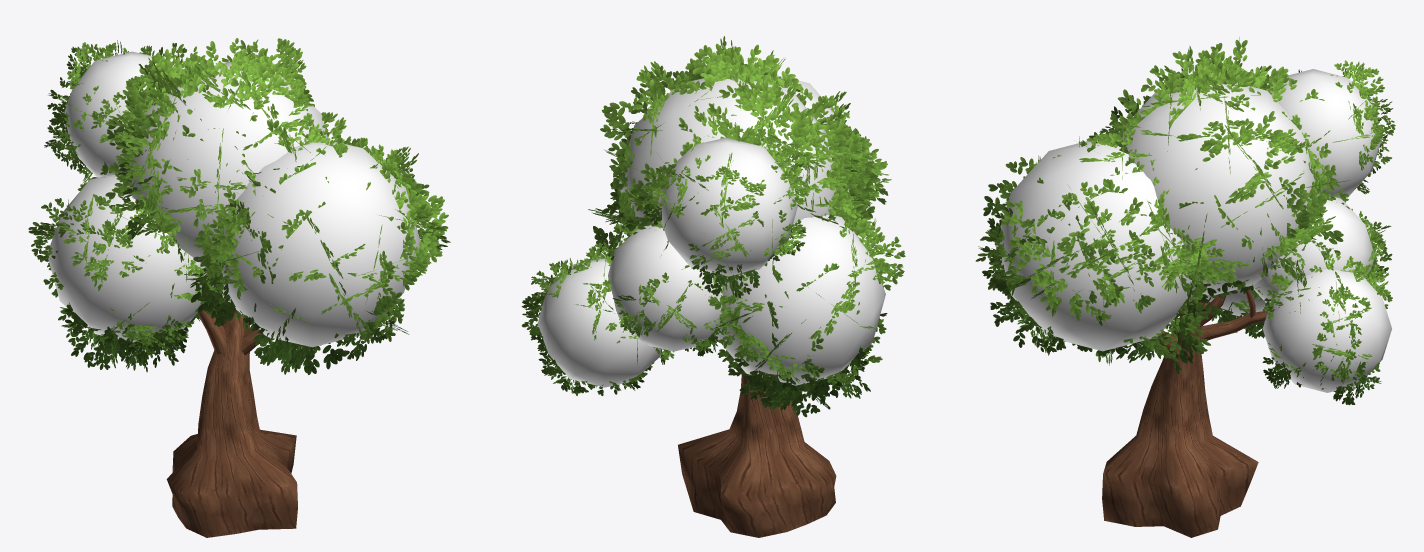
The model's file is cardtree_71924_s53423.gltf.
3 renders of one model, left to right at view 1: azimuth 30°, elevation 25°; view 2: azimuth 150°, elevation 25°; view 3: azimuth 270°, elevation 25°, orthographic. The views are drawn at different scales.
Parts seen in each view (by area): view 1: cardtree_71924_s53423_shadow_LOD0, cardtree_71924_s53423_leaves_LOD0, cardtree_71924_s53423_trunk_LOD0; view 2: cardtree_71924_s53423_shadow_LOD0, cardtree_71924_s53423_leaves_LOD0, cardtree_71924_s53423_trunk_LOD0; view 3: cardtree_71924_s53423_shadow_LOD0, cardtree_71924_s53423_leaves_LOD0, cardtree_71924_s53423_trunk_LOD0.
Part boxes in pixels (x1,y1,x2,y2): cardtree_71924_s53423_shadow_LOD0: (48,51,420,347); cardtree_71924_s53423_leaves_LOD0: (28,38,450,374); cardtree_71924_s53423_trunk_LOD0: (166,299,297,537); cardtree_71924_s53423_shadow_LOD0: (537,73,885,387); cardtree_71924_s53423_leaves_LOD0: (521,36,905,417); cardtree_71924_s53423_trunk_LOD0: (678,340,836,537); cardtree_71924_s53423_shadow_LOD0: (995,69,1391,392); cardtree_71924_s53423_leaves_LOD0: (975,37,1395,405); cardtree_71924_s53423_trunk_LOD0: (1102,289,1267,537).
Size of what is drawn, in the model's own units: 8.77 by 11.77 by 10.04.
3 materials, 2 textured.
